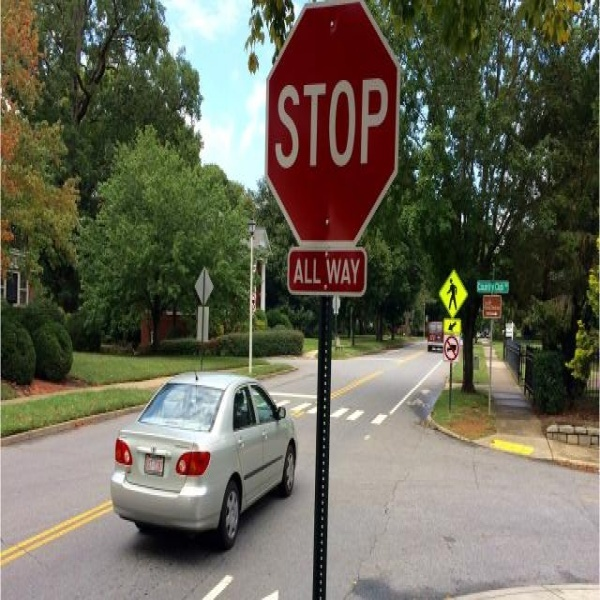stop: (262, 4, 398, 247)
